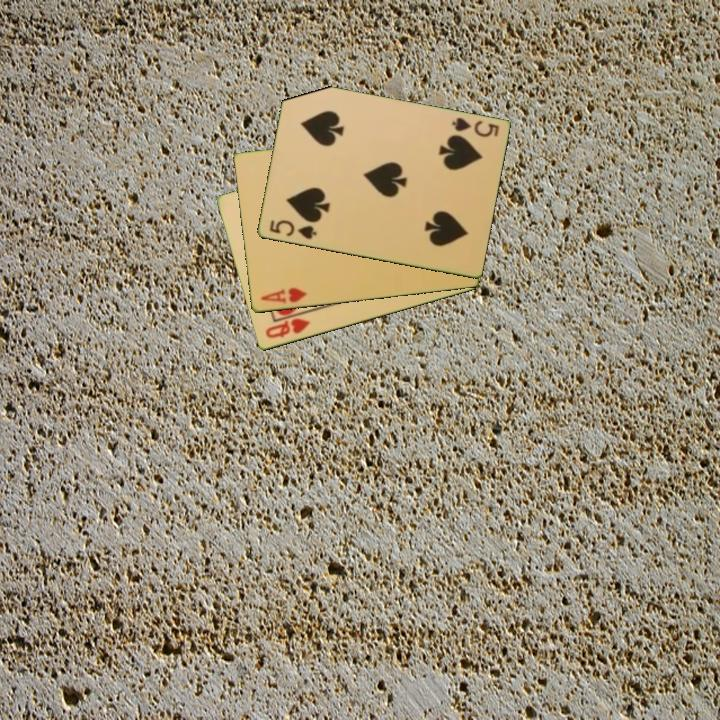5s: (448, 114, 502, 140), (266, 217, 319, 243)
Ah: (257, 285, 309, 307)
Qh: (262, 315, 313, 342)
